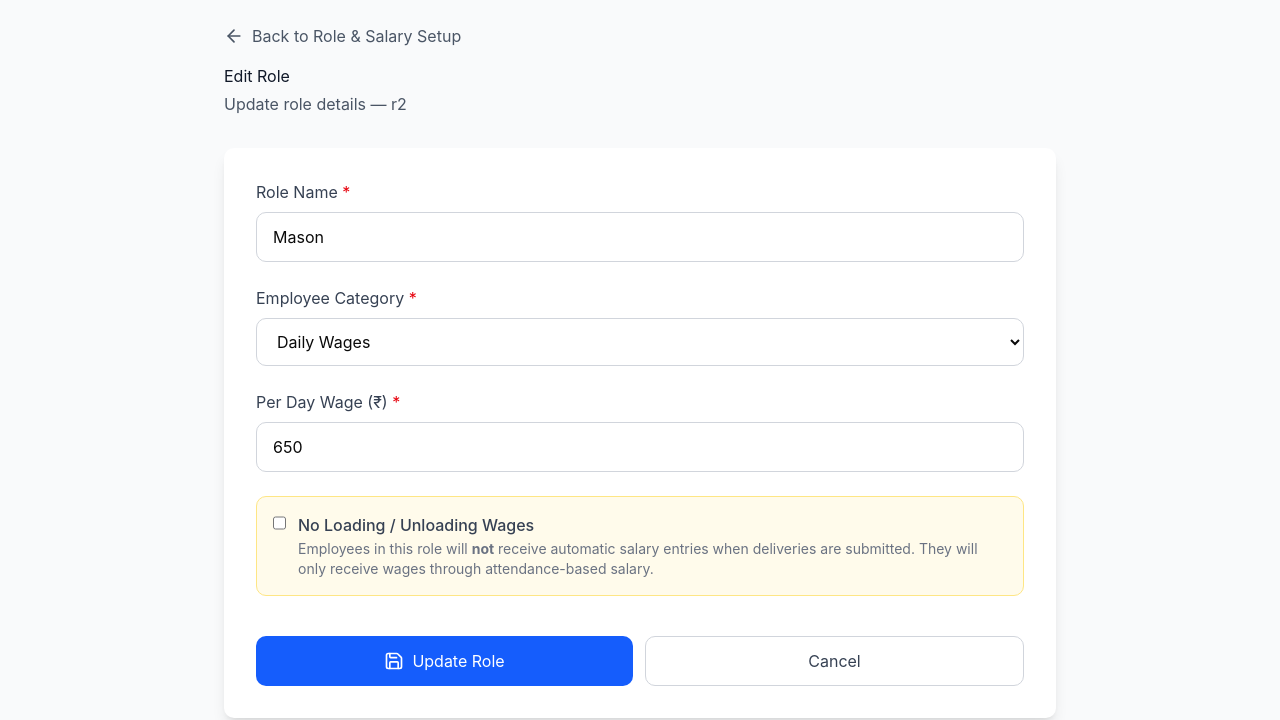
Test case: EditRoleScreen › changing the category › keeps the category and the figures when the answer is No
This screenshot has width=1280, height=720.
Expected: the field labelled "Role Name *" holds "Mason", [256,212,1024,262]
Select "Fixed Salary" in the dropdown labelled "Employee Category *" at (640, 342), box [256,318,1024,366]
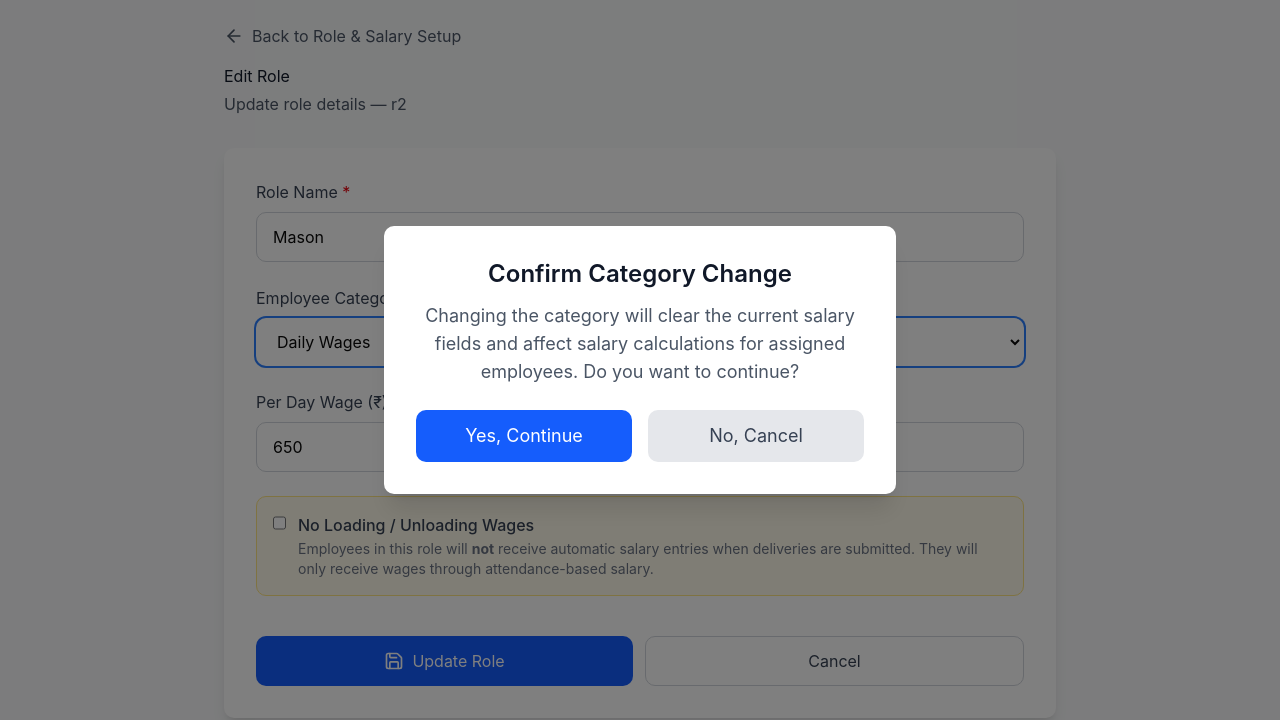
Click the button "No, Cancel".
click(756, 436)  # box [648,410,864,462]
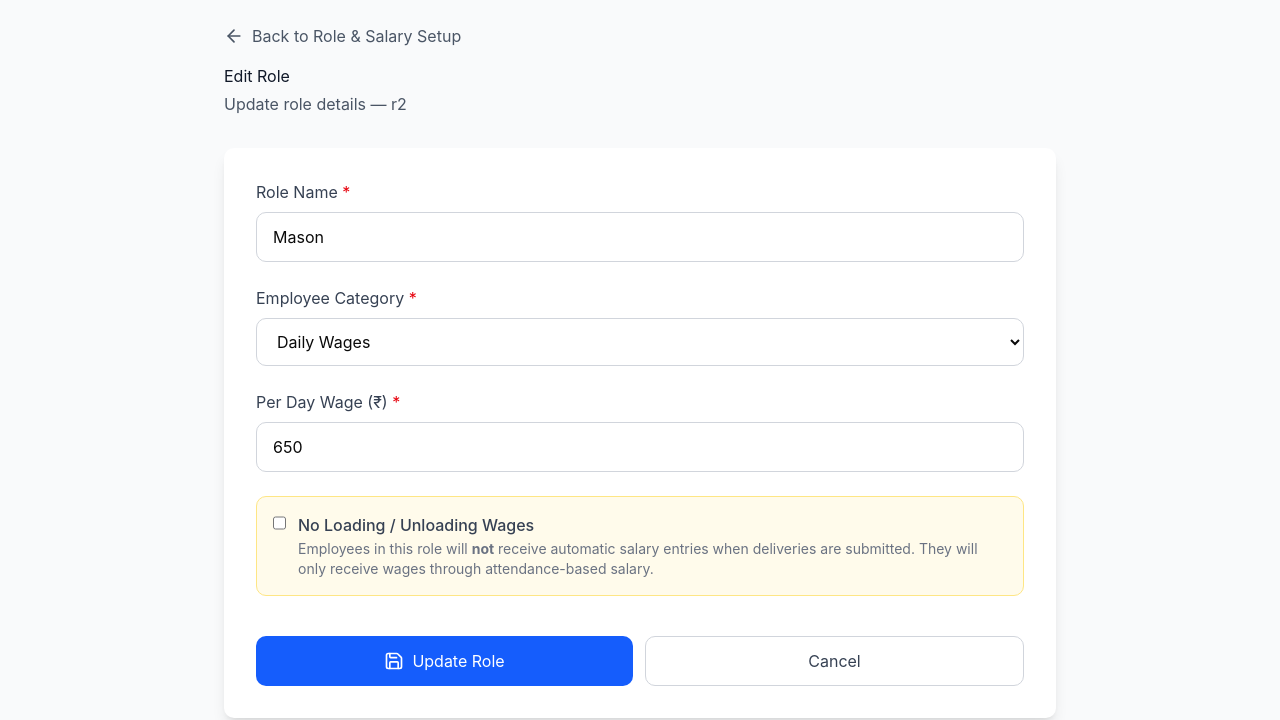
Expected: the number field labelled "Per Day Wage (₹) *" holds "650", [256,422,1024,472]
Expected: the heading "Confirm Category Change" is gone
